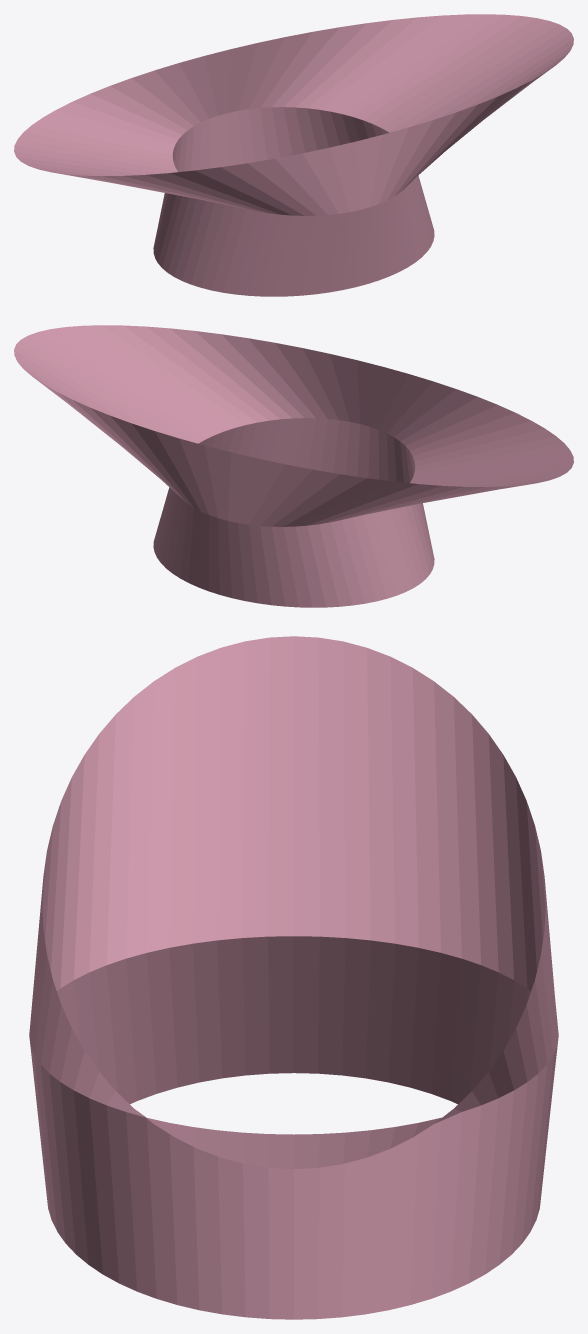
Rendered from sav4-mini-rose.glb.
The picture shows the model from 3 angles, top to bottom: view 1: azimuth 30°, elevation 25°; view 2: azimuth 150°, elevation 25°; view 3: azimuth 270°, elevation 25°; orthographic projection. The views are drawn at different scales.
Parts seen in each view (by area): view 1: Fitted sav4-mini-rose.glb; view 2: Fitted sav4-mini-rose.glb; view 3: Fitted sav4-mini-rose.glb.
Part boxes in pixels (<box>): Fitted sav4-mini-rose.glb: <box>14,14,573,296</box>; Fitted sav4-mini-rose.glb: <box>14,325,573,607</box>; Fitted sav4-mini-rose.glb: <box>29,636,558,1319</box>.
Bounding box in the file's own units: 1.01 × 0.2598 × 0.4245.
